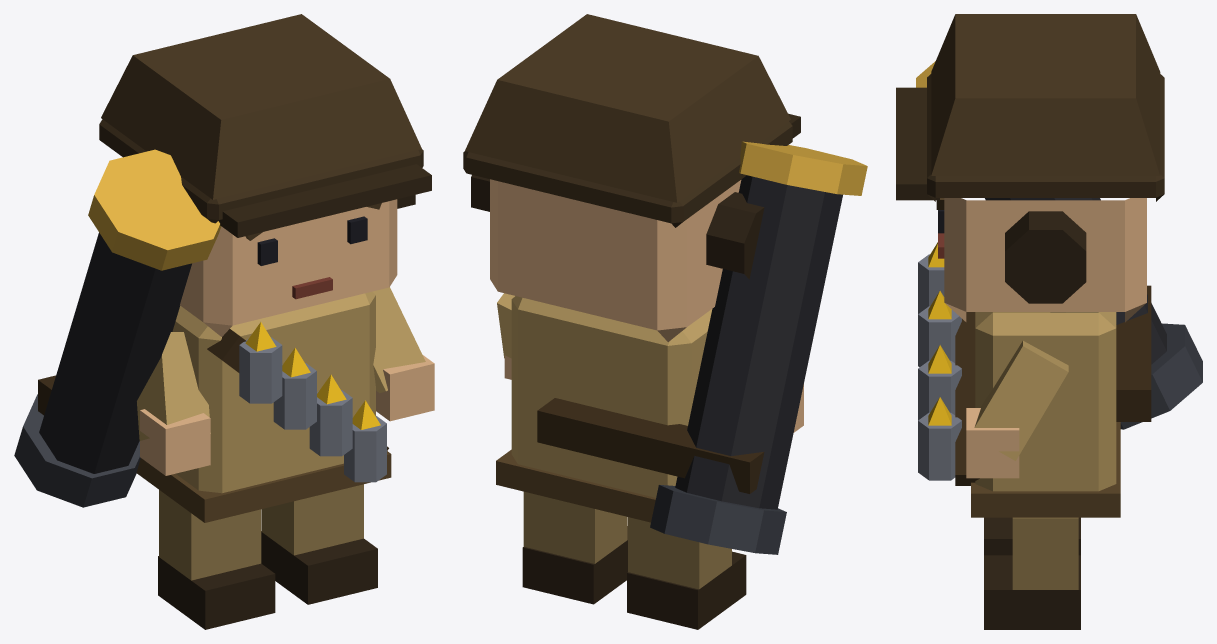
File: mortar.glb
The picture shows the model from 3 angles, left to right: view 1: azimuth 30°, elevation 25°; view 2: azimuth 150°, elevation 25°; view 3: azimuth 270°, elevation 25°; orthographic projection. The views are drawn at different scales.
Visible parts, largest first — view 1: mortar_mesh; view 2: mortar_mesh; view 3: mortar_mesh.
Boxes of the visible parts, box(x1,y1,x2,y2) form: mortar_mesh: box(14, 14, 434, 629); mortar_mesh: box(463, 14, 867, 629); mortar_mesh: box(896, 14, 1202, 629).
Size of the model in its own units: 1.12 by 1.7 by 0.8908.
Materials: 1 (1 with a texture image).
